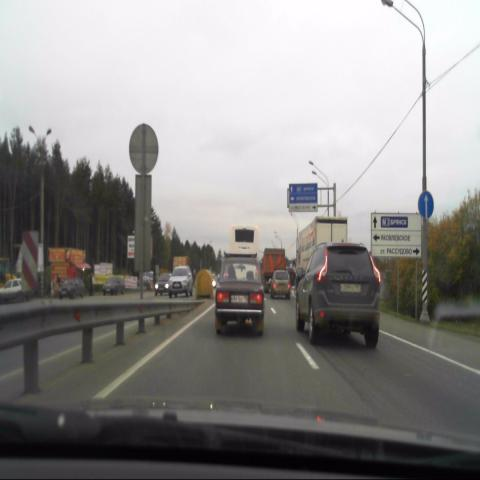4_1_1: (418, 189, 434, 219)
